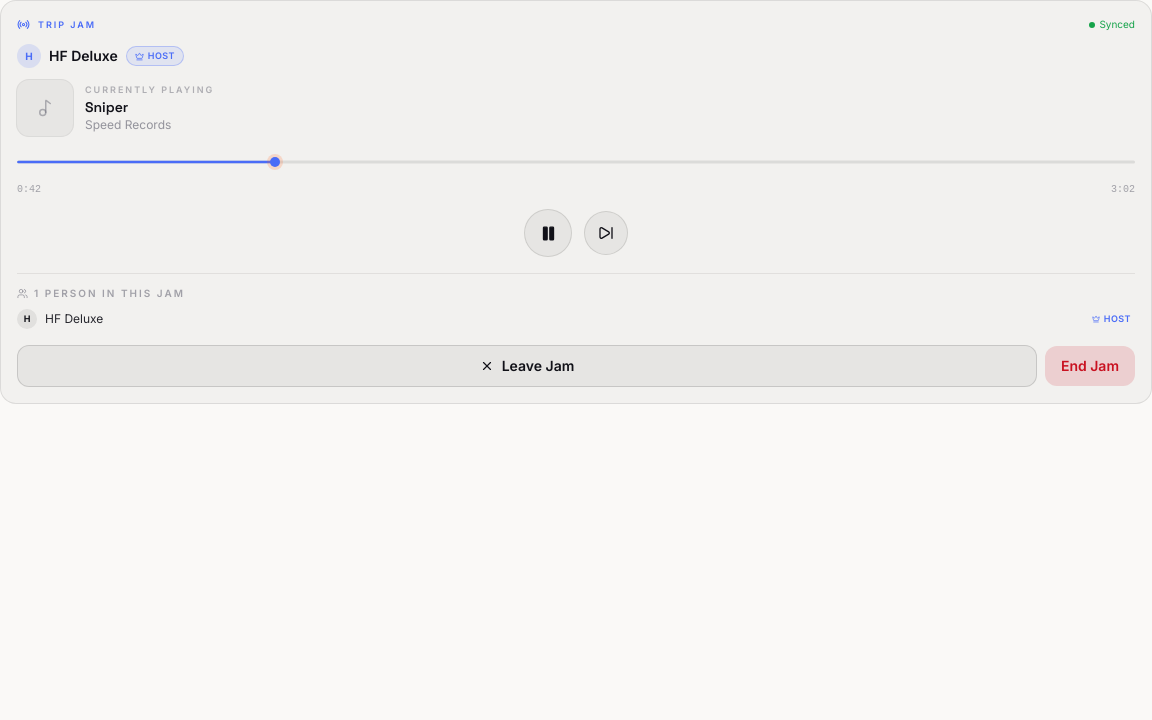
TripJamPanel host seek bar › shows a compact end-Jam confirm below the buttons, not beside them
Tapping End Jam swaps the button for a compact confirm block.
Click the button with aria-label "End the Jam". click: (1090, 366)
box: [1045,346,1135,386]
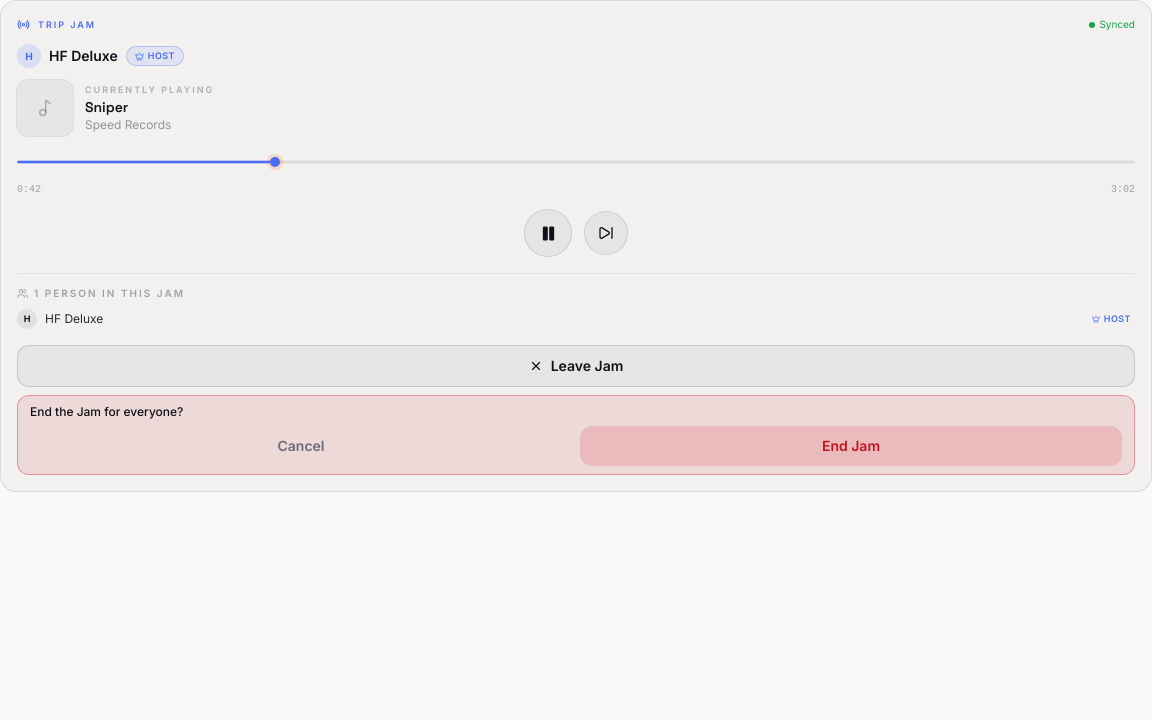
Expected: the element with class "mt-4" showing "Leave Jam" is shown, [17,345,1135,387]
Expected: the text "End the Jam for everyone?" is shown, [30,404,183,419]
Click the button "Cancel". click: (301, 446)
box: [30,426,572,466]
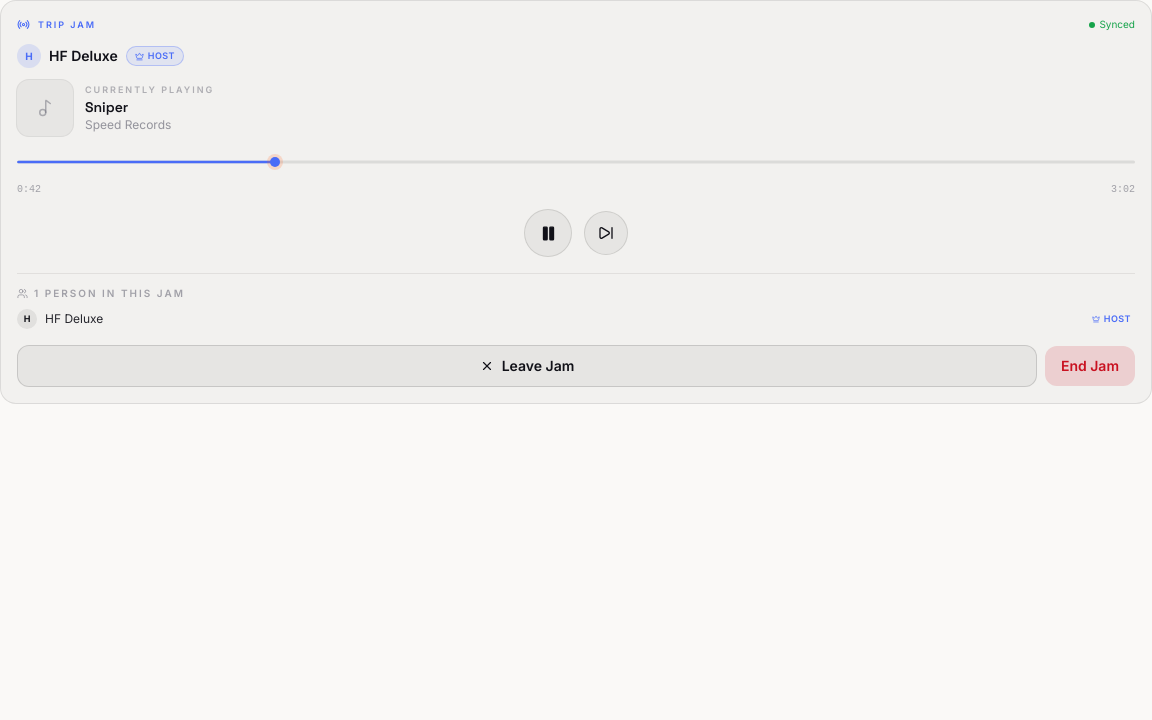
Expected: the text "End the Jam for everyone?" is gone
Click the button with aria-label "End the Jam". click: (1090, 366)
box: [1045,346,1135,386]
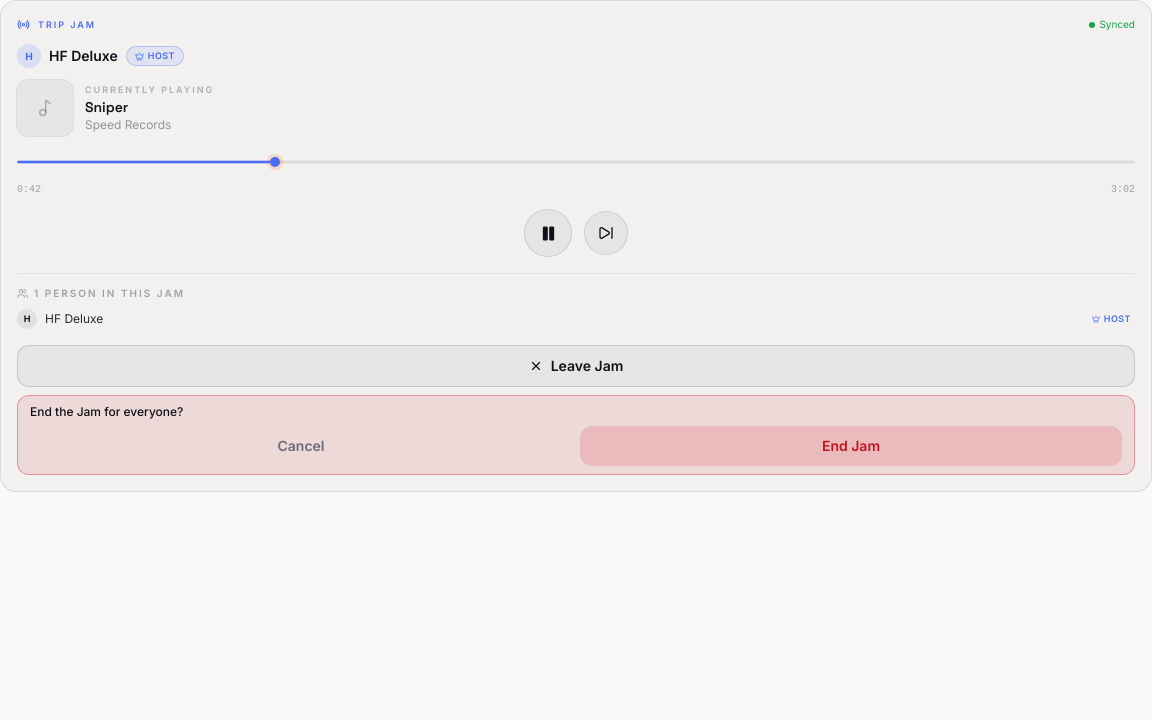
Click the button "End Jam". click: (851, 446)
box: [580,426,1122,466]
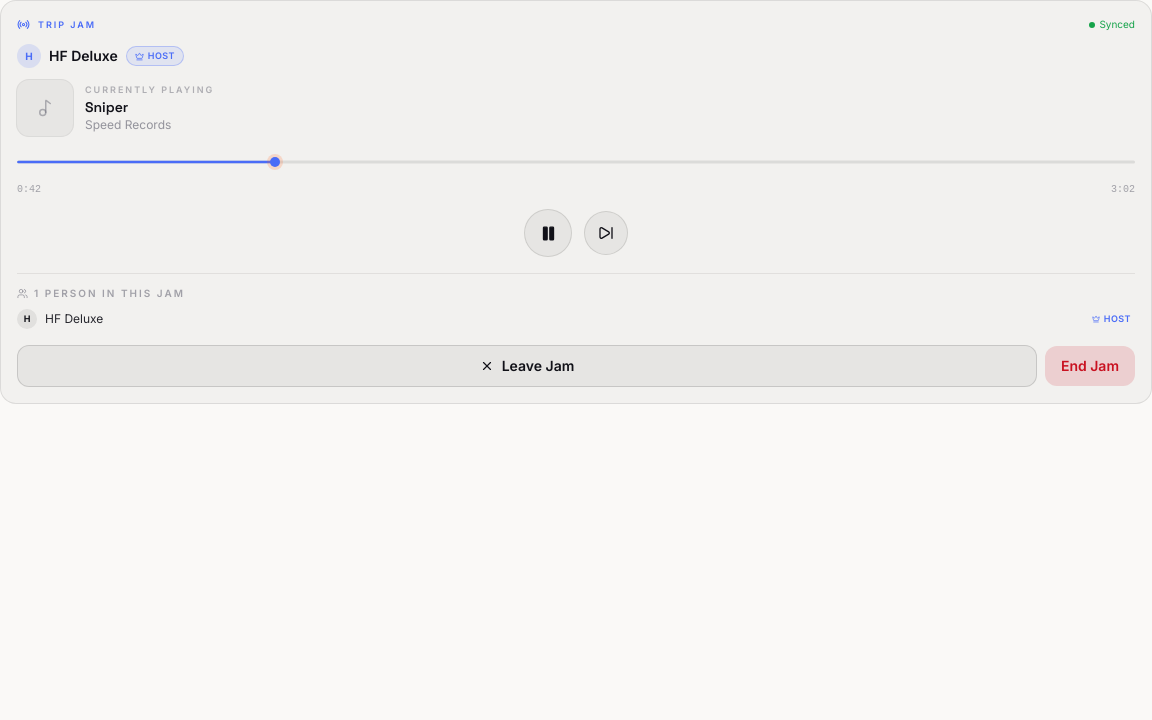
Expected: the text "End the Jam for everyone?" is gone
